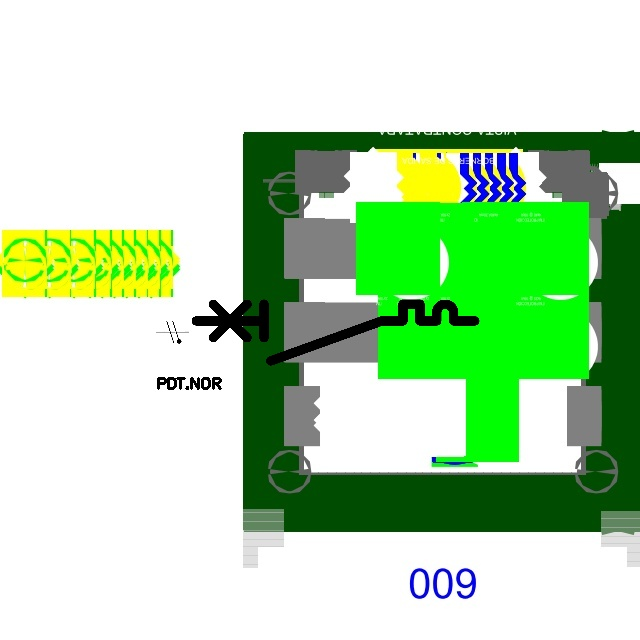interruptor_termomagnetico: (189, 297, 482, 368)
